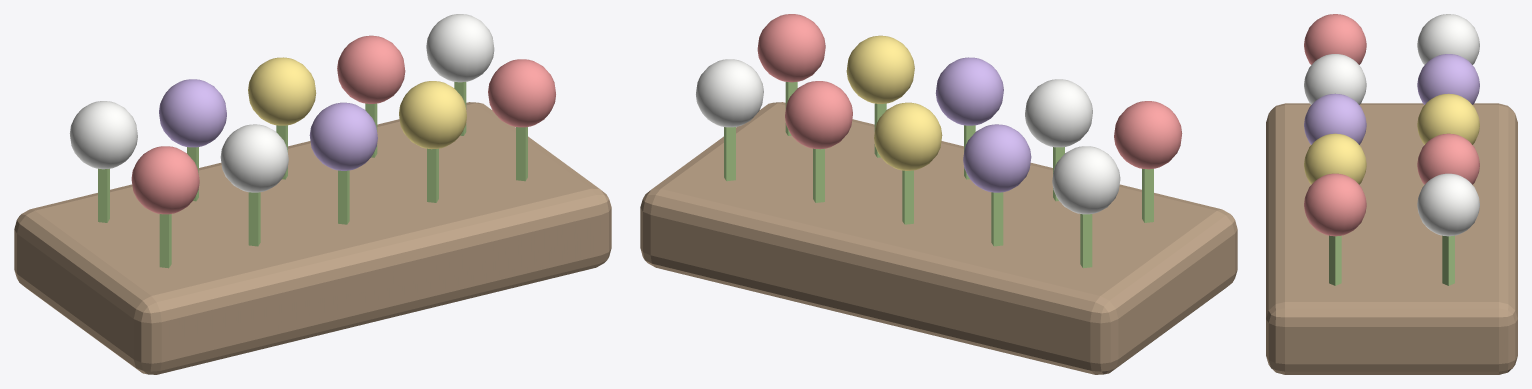
File: flowers.glb
3 views of the same model, side by side, from view 1: azimuth 30°, elevation 25°; view 2: azimuth 150°, elevation 25°; view 3: azimuth 270°, elevation 25° (orthographic). The views are drawn at different scales.
Visible parts, largest first — view 1: flowers; view 2: flowers; view 3: flowers.
Part boxes in pixels (x1=…): flowers: x1=14, y1=14, x2=611, y2=374; flowers: x1=640, y1=14, x2=1237, y2=374; flowers: x1=1266, y1=14, x2=1517, y2=374.
Bounding box in the file's own units: 1.6 × 0.625 × 0.8.
